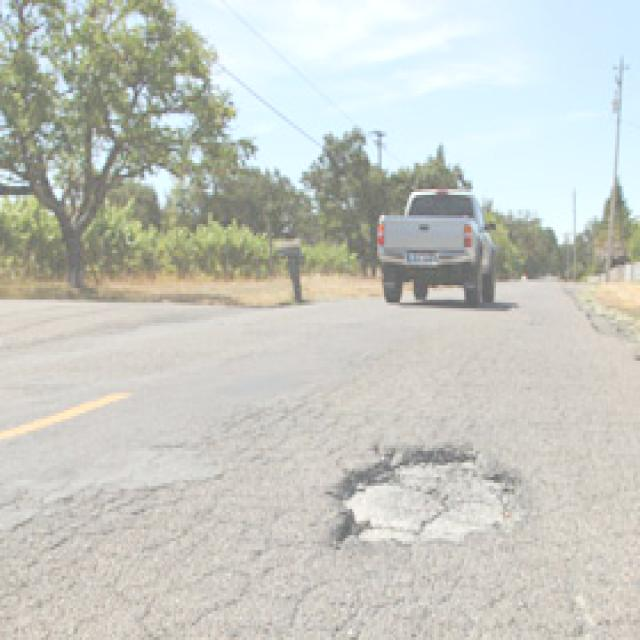Pothole: (304, 422, 544, 583)
